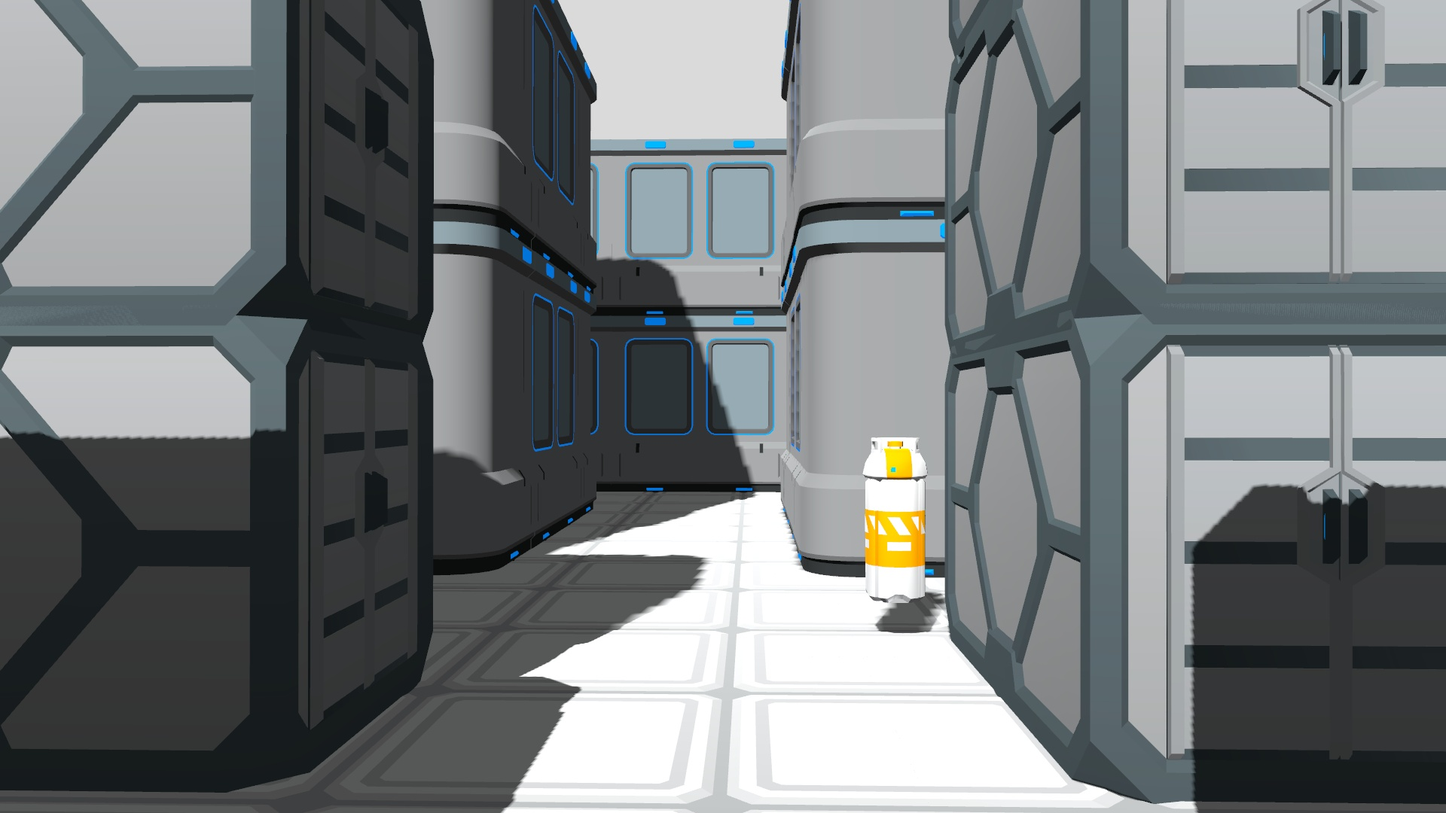yellow_barrel: (863, 428, 930, 605)
